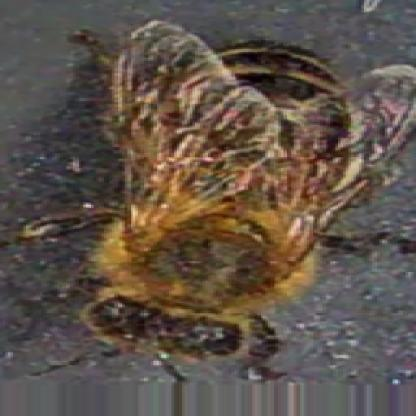bee: (73, 41, 354, 371)
